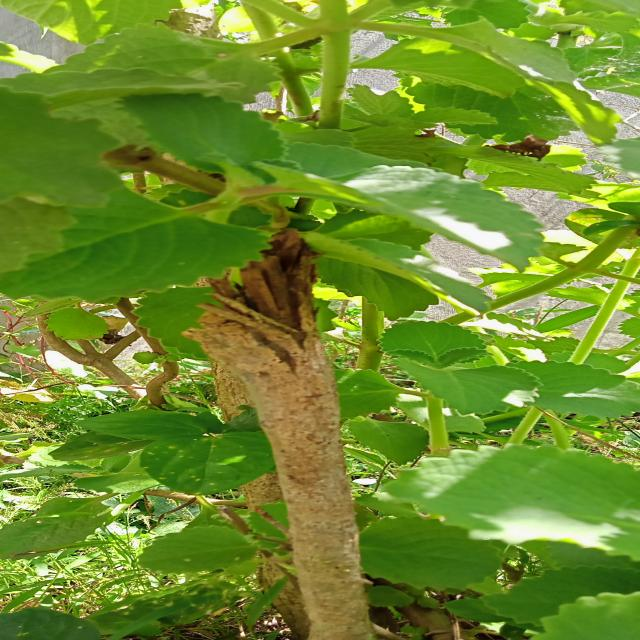Oregano: (0, 26, 507, 312), (367, 435, 640, 568), (384, 338, 554, 420)
